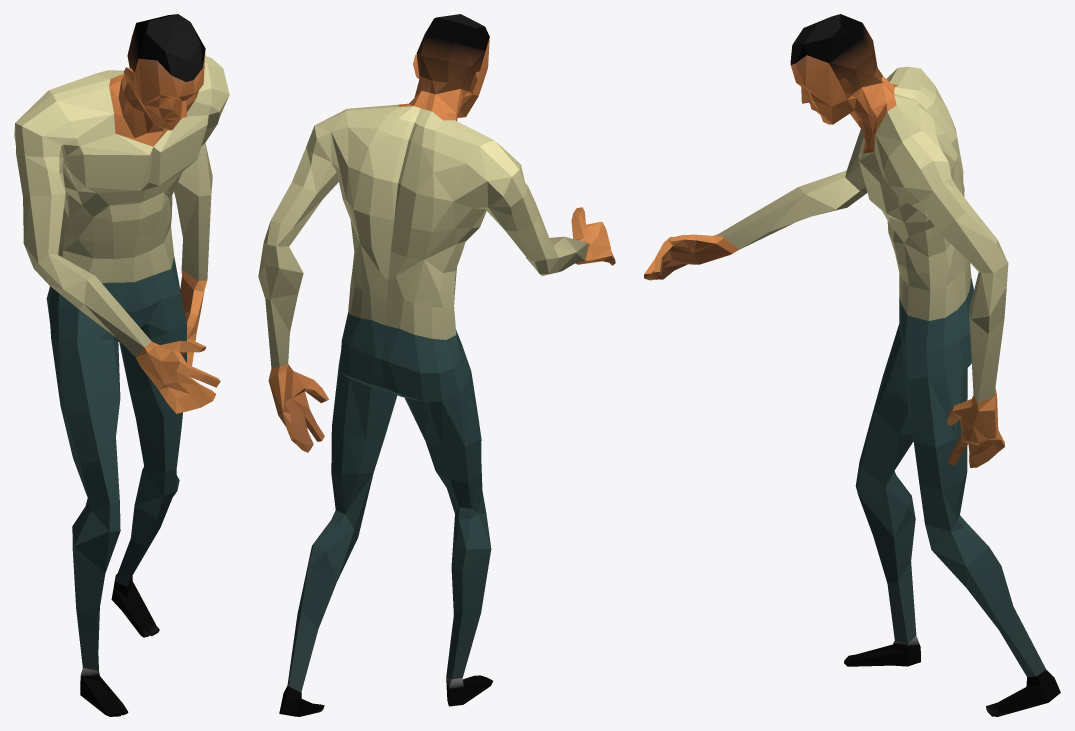
The model's file is PUPET_OpenDoor.obj.
3 renders of one model, left to right at view 1: azimuth 30°, elevation 25°; view 2: azimuth 150°, elevation 25°; view 3: azimuth 270°, elevation 25°, orthographic. The views are drawn at different scales.
Visible parts, largest first — view 1: Archer; view 2: Archer; view 3: Archer.
Part boxes in pixels (<box>): Archer: <box>14,14,229,716</box>; Archer: <box>258,14,615,716</box>; Archer: <box>644,14,1060,716</box>.
Bounding box in the file's own units: 0.6654 × 1.77 × 1.01.
